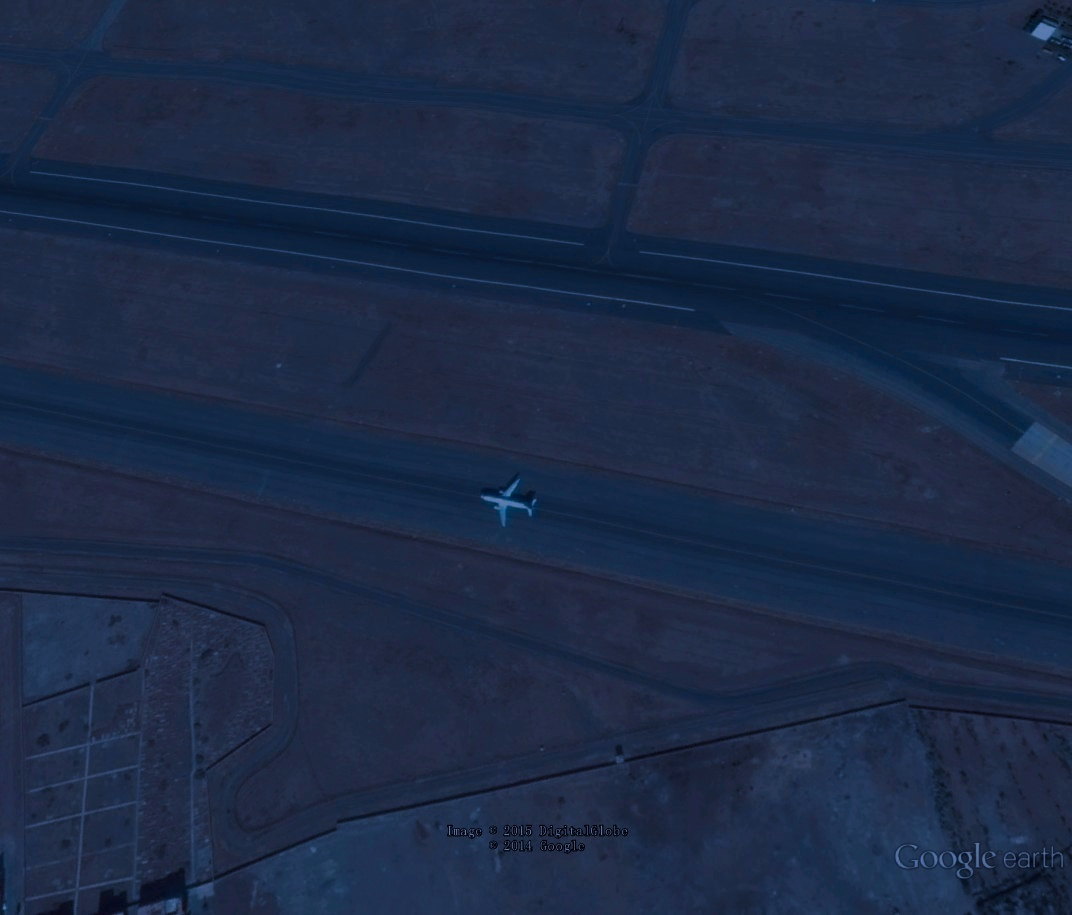aircraft: (475, 471, 543, 534)
